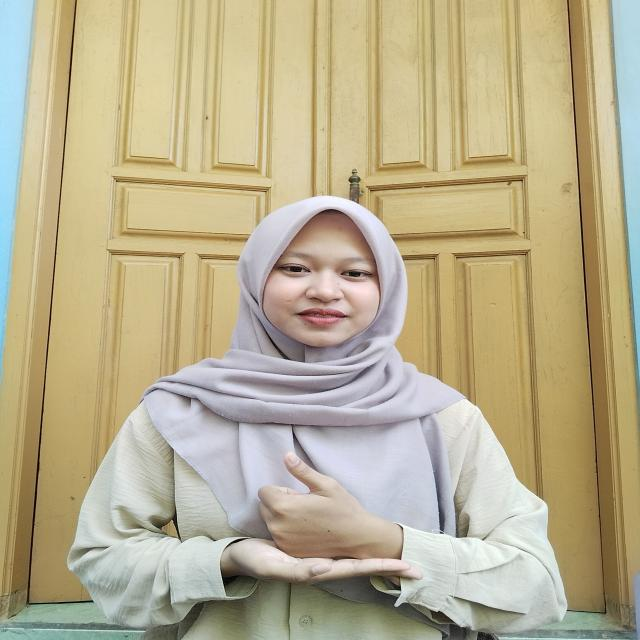cantik: (210, 421, 419, 602)
